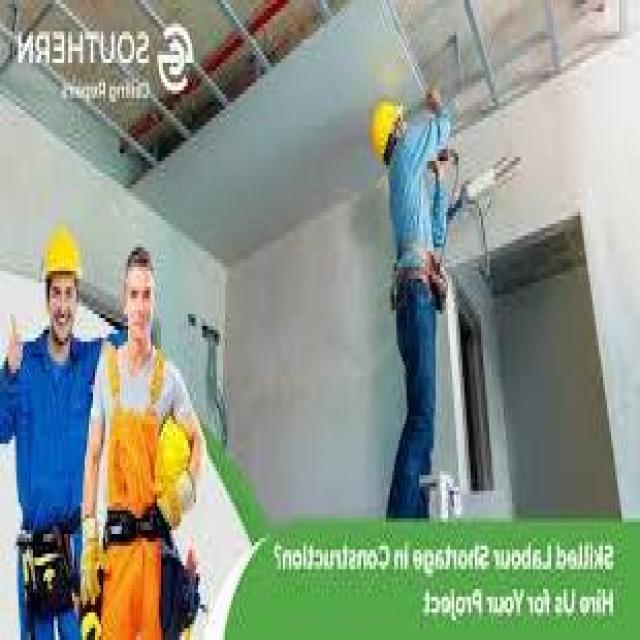Reflective-Jacket: (93, 330, 194, 542)
Safety-Helmet: (33, 216, 89, 291), (361, 86, 409, 169)
